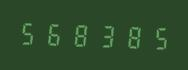eight: (118, 20, 142, 51), (68, 19, 92, 49)
five: (17, 17, 41, 48), (143, 21, 167, 52)
six: (42, 18, 66, 49)
three: (93, 19, 117, 50)
